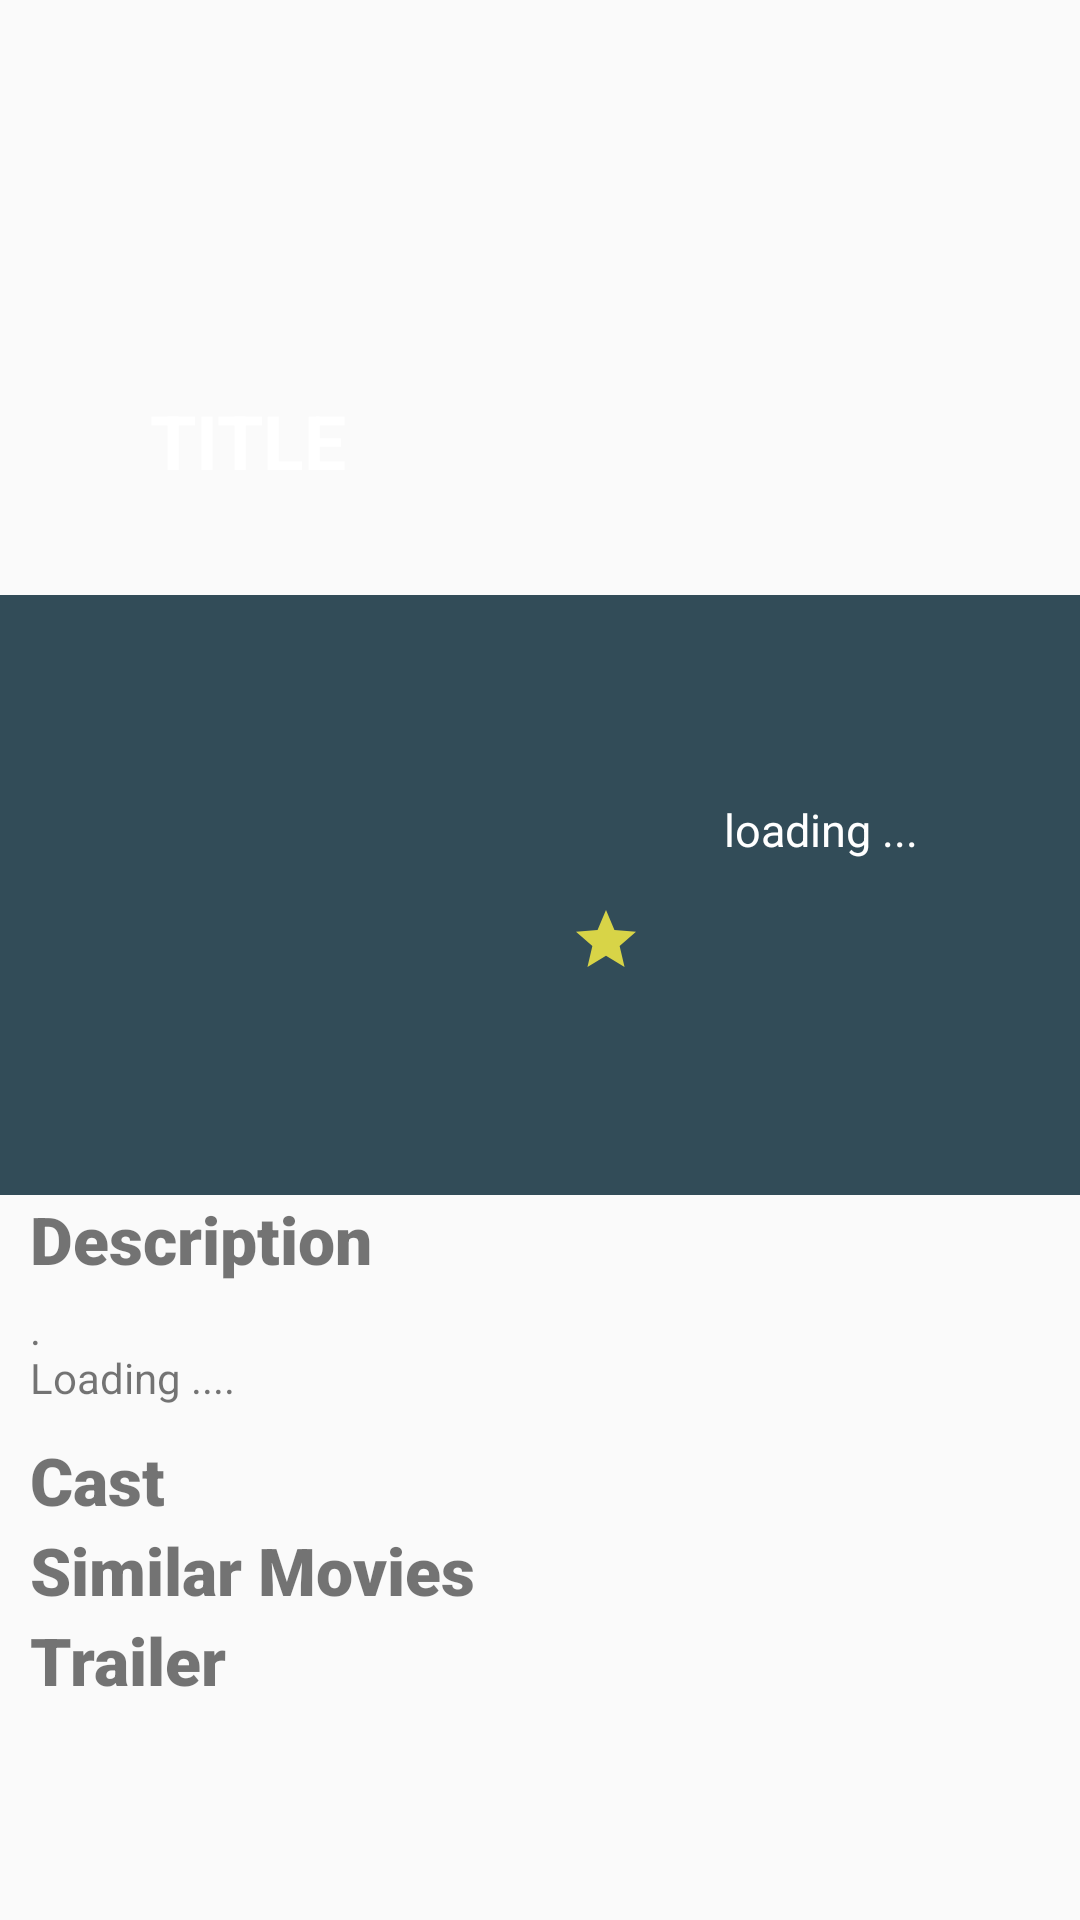

Where to tap for icons on this 1080×1920 app screen, as point (x, y):
star: point (606, 938)
